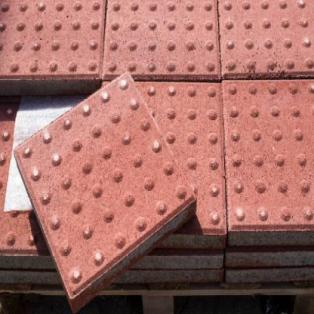Podoctatil: (0, 0, 314, 226)
